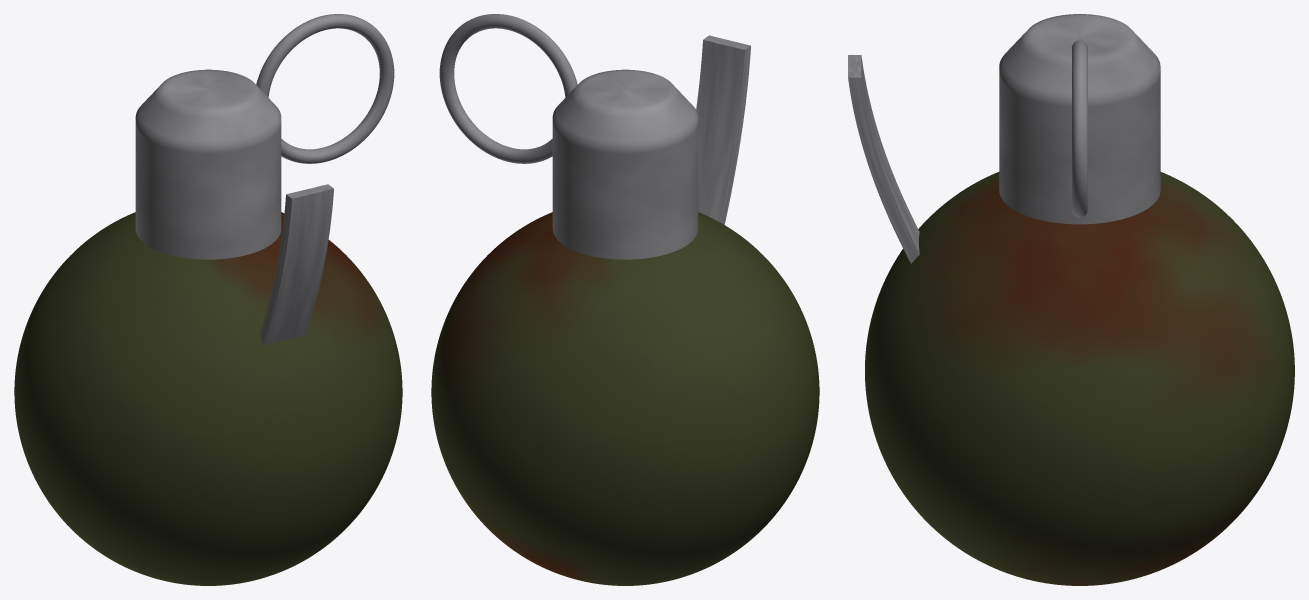
File: grenade_L3.glb
3 views of the same model, side by side, from view 1: azimuth 30°, elevation 25°; view 2: azimuth 150°, elevation 25°; view 3: azimuth 270°, elevation 25° (orthographic). The views are drawn at different scales.
Visible parts, largest first — view 1: body, fuze, lever, pin; view 2: body, fuze, lever, pin; view 3: body, fuze, lever, pin.
Boxes of the visible parts, x1=… form: body: x1=14, y1=212, x2=402, y2=585; fuze: x1=135, y1=69, x2=281, y2=259; lever: x1=260, y1=184, x2=333, y2=345; pin: x1=256, y1=14, x2=394, y2=163; body: x1=431, y1=212, x2=819, y2=585; fuze: x1=552, y1=69, x2=698, y2=259; lever: x1=696, y1=35, x2=750, y2=224; pin: x1=439, y1=14, x2=577, y2=163; body: x1=865, y1=172, x2=1294, y2=585; fuze: x1=999, y1=14, x2=1160, y2=224; lever: x1=848, y1=55, x2=919, y2=263; pin: x1=1072, y1=40, x2=1087, y2=217.
Bounding box in the file's own units: 0.0672 × 0.0952 × 0.0665.
Materials: 2 (2 with a texture image).
